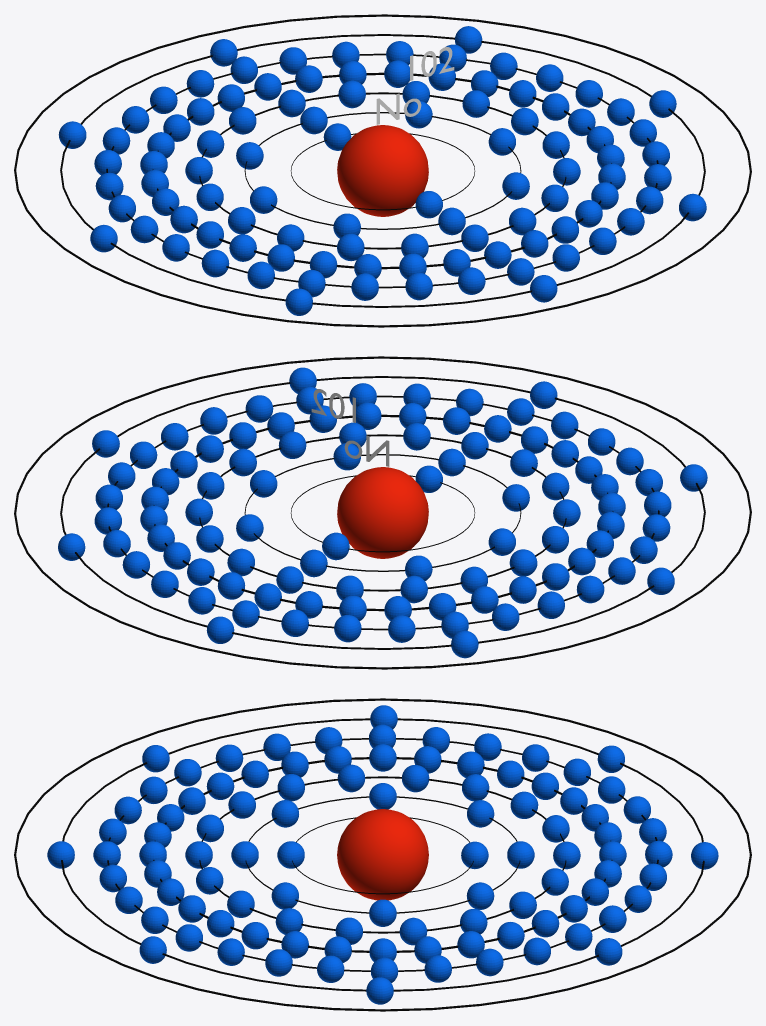
3 renders of one model, top to bottom at view 1: azimuth 30°, elevation 25°; view 2: azimuth 150°, elevation 25°; view 3: azimuth 270°, elevation 25°, orthographic.
Visible parts, largest first — view 1: No5, No4, No3, Proton, No6, n7, No2, n6, n5, No1, n3, n4 (+1 smaller); view 2: No5, No4, No3, Proton, No6, n7, No2, n6, n5, No1, n3, n4 (+1 smaller); view 3: No5, No4, No3, Proton, No2, n7, No6, n6, No1, n5, n3, n4 (+2 smaller).
Part boxes in pixels (x1=…): No5: x1=94, y1=41, x2=671, y2=300; No4: x1=140, y1=60, x2=625, y2=279; No3: x1=185, y1=80, x2=580, y2=261; Proton: x1=337, y1=125, x2=428, y2=216; No6: x1=58, y1=26, x2=706, y2=315; n7: x1=14, y1=14, x2=751, y2=327; No2: x1=236, y1=101, x2=529, y2=238; n6: x1=60, y1=34, x2=705, y2=307; n5: x1=106, y1=53, x2=658, y2=288; No1: x1=323, y1=123, x2=442, y2=218; n3: x1=199, y1=92, x2=566, y2=249; n4: x1=152, y1=72, x2=611, y2=269; No5: x1=94, y1=383, x2=671, y2=642; No4: x1=140, y1=402, x2=625, y2=621; No3: x1=185, y1=422, x2=580, y2=603; Proton: x1=337, y1=467, x2=428, y2=558; No6: x1=58, y1=367, x2=707, y2=658; n7: x1=14, y1=356, x2=751, y2=669; No2: x1=236, y1=443, x2=529, y2=580; n6: x1=60, y1=376, x2=705, y2=649; n5: x1=107, y1=395, x2=659, y2=630; No1: x1=322, y1=465, x2=442, y2=560; n3: x1=199, y1=434, x2=566, y2=591; n4: x1=153, y1=414, x2=613, y2=611; No5: x1=93, y1=724, x2=672, y2=982; No4: x1=139, y1=744, x2=626, y2=963; No3: x1=185, y1=764, x2=580, y2=945; Proton: x1=337, y1=809, x2=428, y2=900; No2: x1=231, y1=783, x2=534, y2=926; n7: x1=14, y1=698, x2=751, y2=1011; No6: x1=47, y1=705, x2=718, y2=1004; n6: x1=61, y1=718, x2=704, y2=991; No1: x1=277, y1=841, x2=488, y2=869; n5: x1=107, y1=738, x2=658, y2=971; n3: x1=199, y1=776, x2=566, y2=933; n4: x1=153, y1=757, x2=612, y2=952.
Size of the model in its own units: 802 by 180 by 802.
